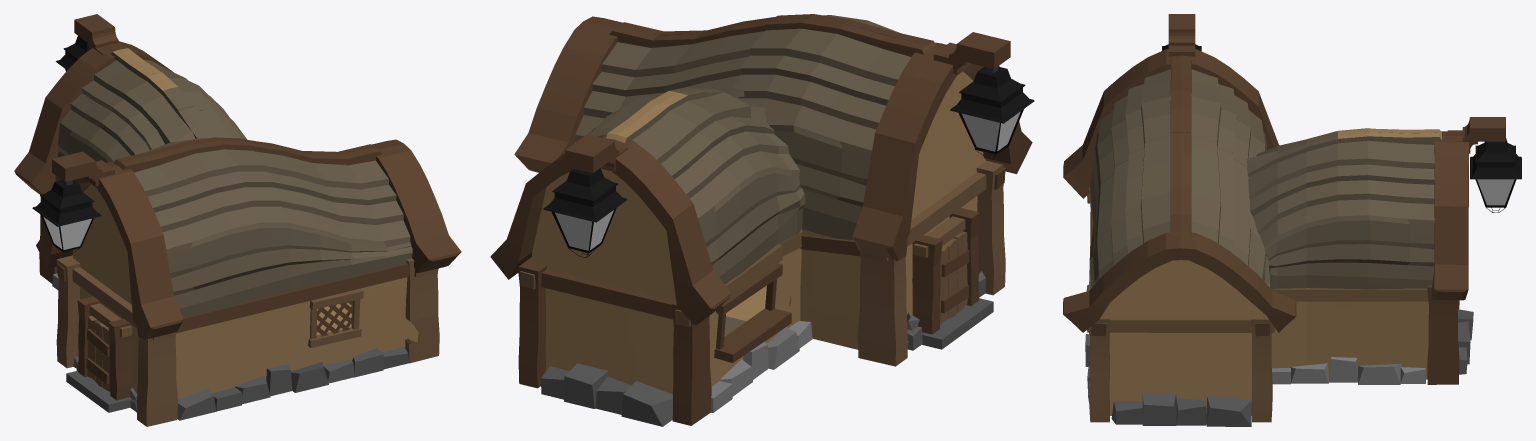
Rendered from casa5.0.fbx.
The picture shows the model from 3 angles, left to right: view 1: azimuth 30°, elevation 25°; view 2: azimuth 150°, elevation 25°; view 3: azimuth 270°, elevation 25°; orthographic projection. The views are drawn at different scales.
Parts seen in each view (by area): view 1: casa.008, casa.007, pedras.008, arco de entrada.001, janela.005, Cube.022, porta.005, negocinho feio.008, negocinho feio.007, Cube.023, Cube.017; view 2: casa.008, casa.007, arco de entrada.001, pedras.008, janela.004, pedras.007, Cube.022, Cube.017, porta.005, negocinho feio.008, negocinho feio.007, Cube.016 (+1 smaller); view 3: casa.008, casa.007, pedras.008, pedras.007, Cube.017, negocinho feio.008, negocinho feio.007, Cube.016.
Part boxes in pixels (x1,y1,x2,y2): casa.008: (36, 137, 461, 426); casa.007: (14, 41, 247, 283); pedras.008: (73, 347, 408, 420); arco de entrada.001: (66, 296, 132, 412); janela.005: (308, 288, 363, 347); Cube.022: (32, 180, 101, 226); porta.005: (86, 316, 110, 391); negocinho feio.008: (52, 151, 114, 186); negocinho feio.007: (74, 14, 123, 54); Cube.023: (43, 217, 91, 249); Cube.017: (56, 36, 90, 69); casa.008: (514, 14, 1032, 366); casa.007: (490, 87, 805, 425); arco de entrada.001: (912, 208, 993, 349); pedras.008: (541, 271, 985, 426); janela.004: (714, 263, 791, 362); pedras.007: (710, 321, 812, 412); Cube.022: (950, 66, 1034, 123); Cube.017: (543, 168, 627, 222); porta.005: (940, 231, 969, 325); negocinho feio.008: (933, 32, 1010, 74); negocinho feio.007: (565, 134, 628, 172); Cube.016: (555, 210, 613, 250); casa.008: (1063, 49, 1296, 422); casa.007: (1246, 128, 1468, 384); pedras.008: (1085, 285, 1473, 426); pedras.007: (1272, 357, 1425, 384); Cube.017: (1470, 137, 1521, 179); negocinho feio.008: (1168, 14, 1195, 56); negocinho feio.007: (1447, 117, 1505, 153); Cube.016: (1477, 179, 1514, 205).
Bounding box in the file's own units: 6450 × 4147 × 7049.
